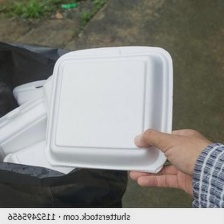foam_box: (38, 42, 179, 177), (0, 136, 80, 178), (0, 95, 54, 157), (10, 77, 56, 109)
